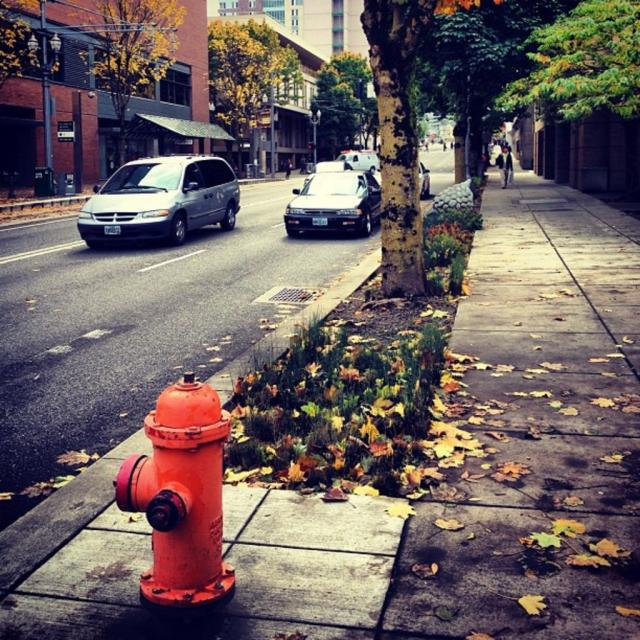fire_hydrant: (112, 370, 237, 616)
